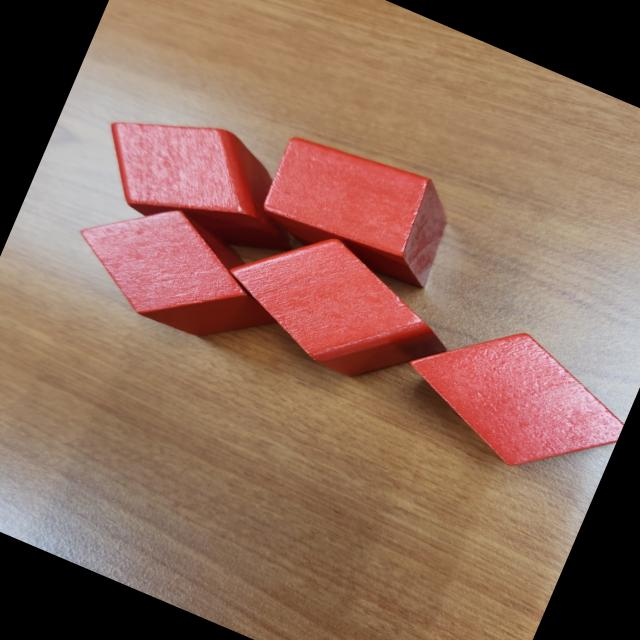red: (207, 203, 471, 409), (383, 294, 640, 501), (57, 176, 306, 366), (80, 88, 328, 278), (251, 121, 465, 296)
